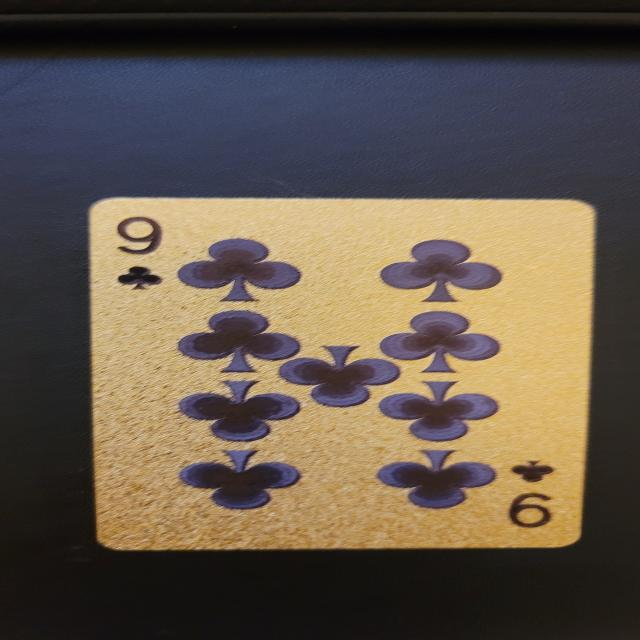9 of clubs: (91, 197, 600, 550)
